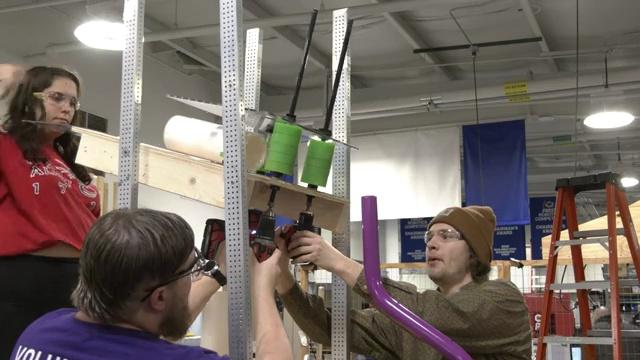CORAL: (162, 113, 267, 171)
